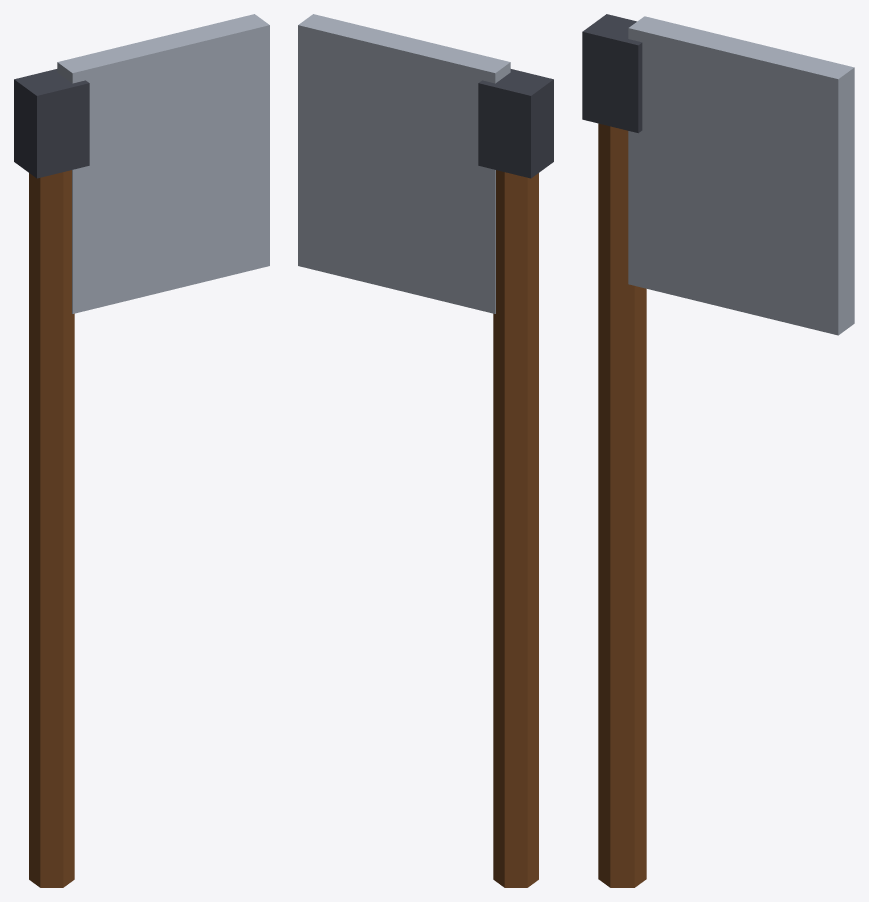
Rendered from battle_axe.glb.
3 renders of one model, left to right at view 1: azimuth 30°, elevation 25°; view 2: azimuth 150°, elevation 25°; view 3: azimuth 330°, elevation 25°, orthographic. The views are drawn at different scales.
Visible parts, largest first — view 1: battle_axe; view 2: battle_axe; view 3: battle_axe.
Boxes of the visible parts, x1,y1,x2,y2 form: battle_axe: (14,14,269,887); battle_axe: (298,14,553,887); battle_axe: (582,14,854,887).
Size of the model in its own units: 0.36 by 1.17 by 0.06.
